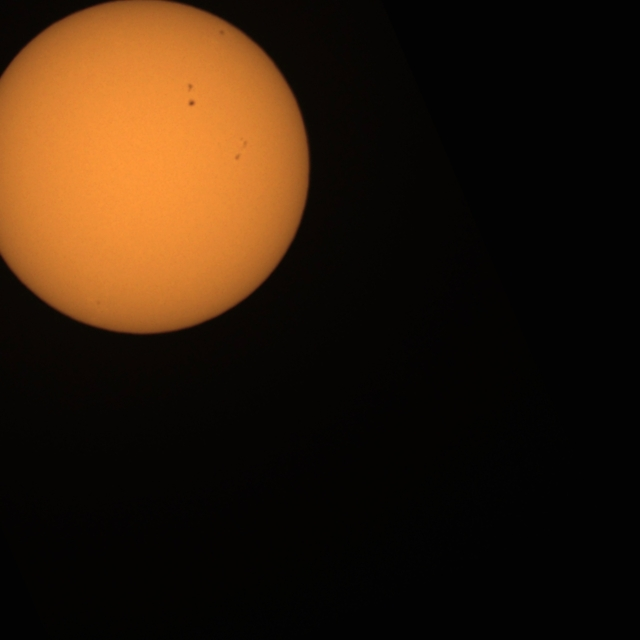sunspot: (234, 136, 248, 161), (186, 83, 196, 100), (238, 136, 249, 150), (187, 97, 196, 108), (233, 152, 241, 162), (186, 83, 194, 92), (218, 29, 226, 37)
